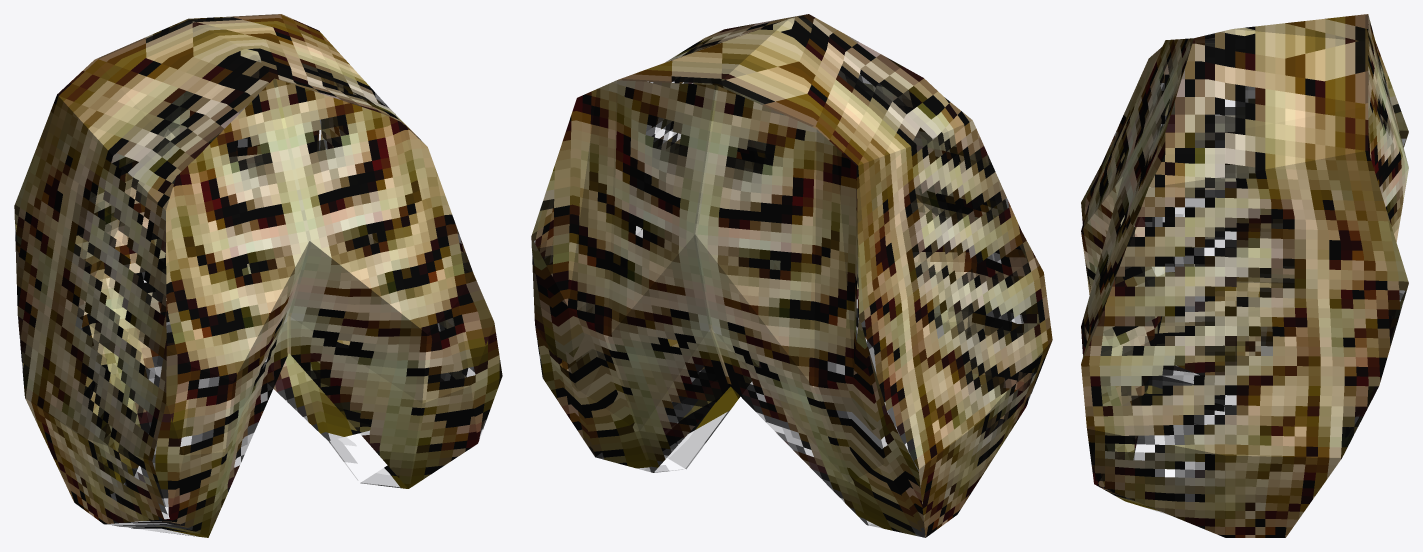
File: Costelas.glb
The picture shows the model from 3 angles, left to right: view 1: azimuth 30°, elevation 25°; view 2: azimuth 150°, elevation 25°; view 3: azimuth 270°, elevation 25°; orthographic projection. The views are drawn at different scales.
Parts seen in each view (by area): view 1: Cube; view 2: Cube; view 3: Cube.
Boxes of the visible parts, x1=… form: Cube: x1=14, y1=14, x2=502, y2=537; Cube: x1=531, y1=14, x2=1052, y2=537; Cube: x1=1081, y1=14, x2=1408, y2=537.
Size of the model in its own units: 1.41 by 1.72 by 1.13.
1 material, 1 textured.
